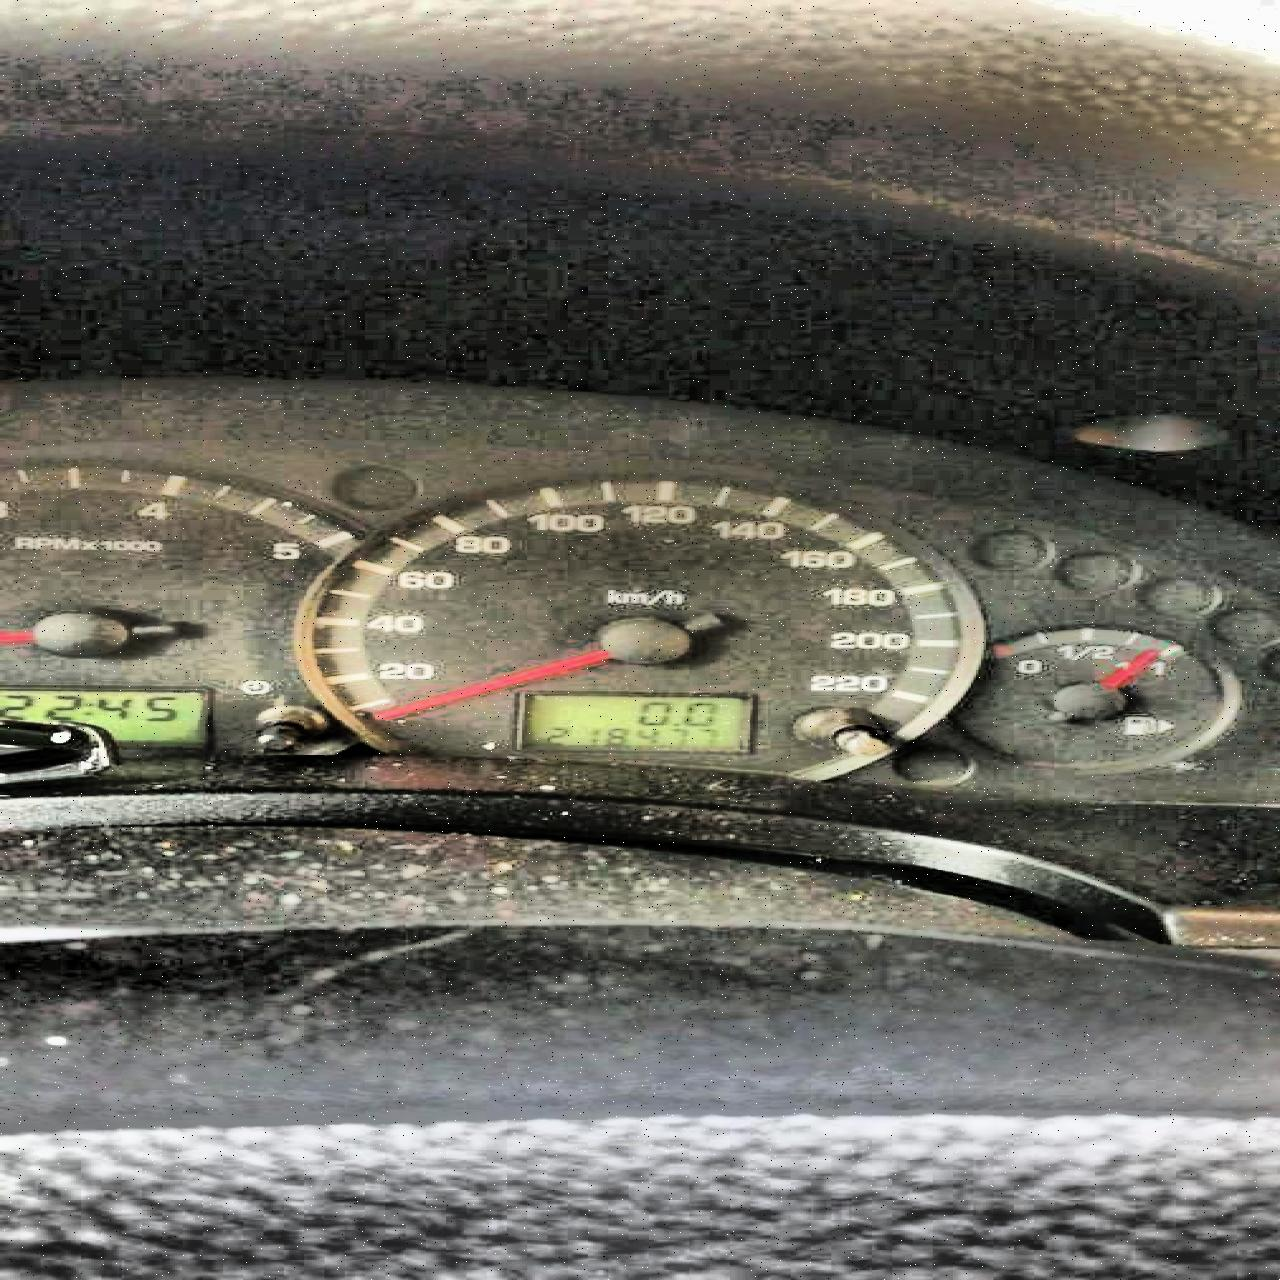-: (667, 719, 681, 727)
0: (632, 699, 672, 726), (680, 700, 717, 726)
1: (584, 727, 601, 744)
2: (540, 726, 568, 744)
4: (632, 728, 662, 743)
7: (689, 726, 720, 745), (665, 727, 689, 744)
8: (600, 727, 628, 744)
odometer: (515, 692, 753, 753)
